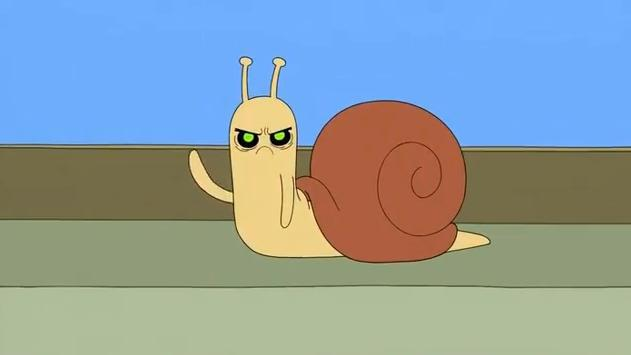snail: (188, 56, 493, 267)
